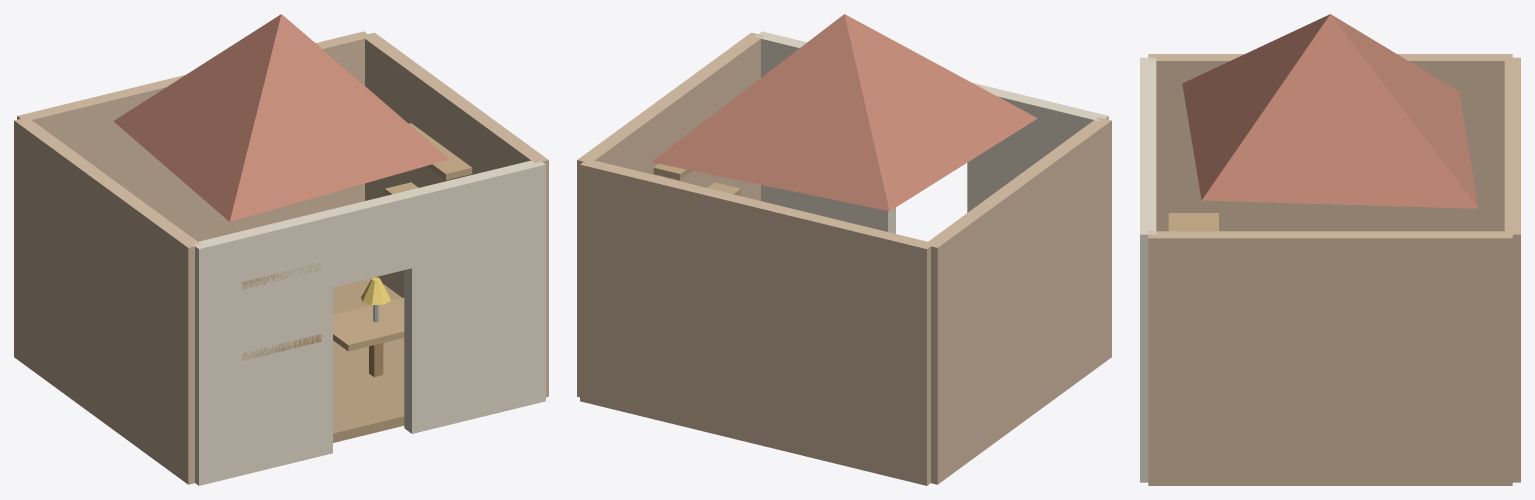
File: house_cabin.fbx
3 renders of one model, left to right at view 1: azimuth 30°, elevation 25°; view 2: azimuth 150°, elevation 25°; view 3: azimuth 270°, elevation 25°, orthographic. The views are drawn at different scales.
Parts seen in each view (by area): view 1: Left, Roof, Front_R, Front_L, Back, Right, Int_Floor, Front_Top, Int_Table, Int_Shelf2, Int_LampShade; view 2: Back, Left, Roof, Right, Front_L, Front_R; view 3: Right, Roof, Left, Back, Front_R, Front_L, Int_Crate2, Front_Top.
Boxes of the visible parts, left/top/right/bottom form: Left: left=14, top=117, right=200, bottom=484; Roof: left=113, top=14, right=449, bottom=221; Front_R: left=404, top=160, right=545, bottom=433; Front_L: left=192, top=211, right=332, bottom=485; Back: left=17, top=31, right=370, bottom=241; Right: left=362, top=32, right=548, bottom=397; Int_Floor: left=333, top=278, right=404, bottom=442; Front_Top: left=325, top=191, right=411, bottom=287; Int_Table: left=333, top=297, right=404, bottom=351; Int_Shelf2: left=409, top=123, right=472, bottom=180; Int_LampShade: left=361, top=277, right=390, bottom=305; Back: left=580, top=160, right=933, bottom=485; Left: left=924, top=117, right=1111, bottom=484; Roof: left=651, top=14, right=1037, bottom=211; Right: left=577, top=32, right=764, bottom=397; Front_L: left=967, top=83, right=1108, bottom=212; Front_R: left=755, top=31, right=895, bottom=233; Right: left=1148, top=231, right=1512, bottom=485; Roof: left=1182, top=14, right=1478, bottom=208; Left: left=1148, top=54, right=1512, bottom=231; Back: left=1504, top=57, right=1520, bottom=482; Front_R: left=1140, top=166, right=1156, bottom=482; Front_L: left=1140, top=57, right=1156, bottom=125; Int_Crate2: left=1168, top=213, right=1218, bottom=231; Front_Top: left=1140, top=126, right=1156, bottom=166.
Bounding box in the file's own units: 4.78 × 4.6 × 4.18.
